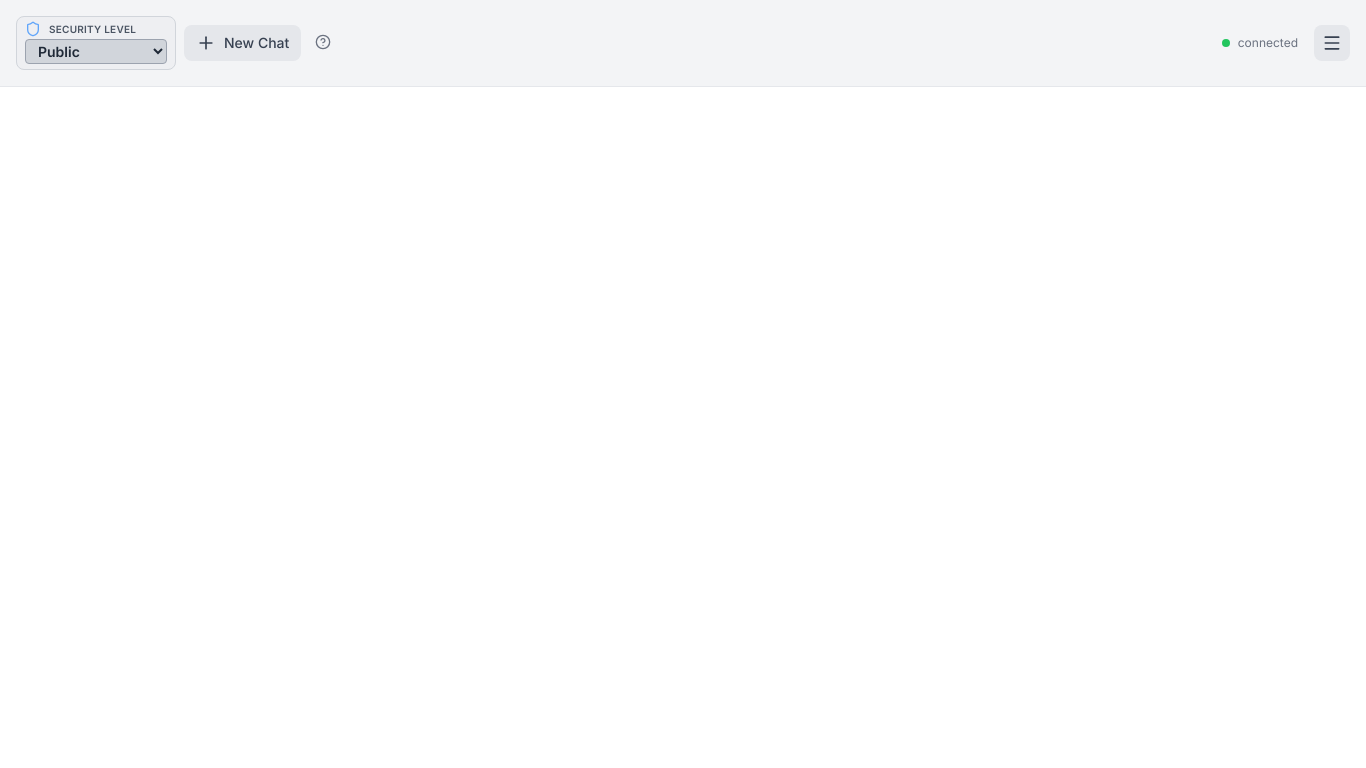
Test: header compliance selector lock (issue #1044) › stays unlocked after a first turn the server has not accepted
This screenshot has width=1366, height=768.
Click the button titled "Menu": (1332, 43) [1314,25,1350,61]
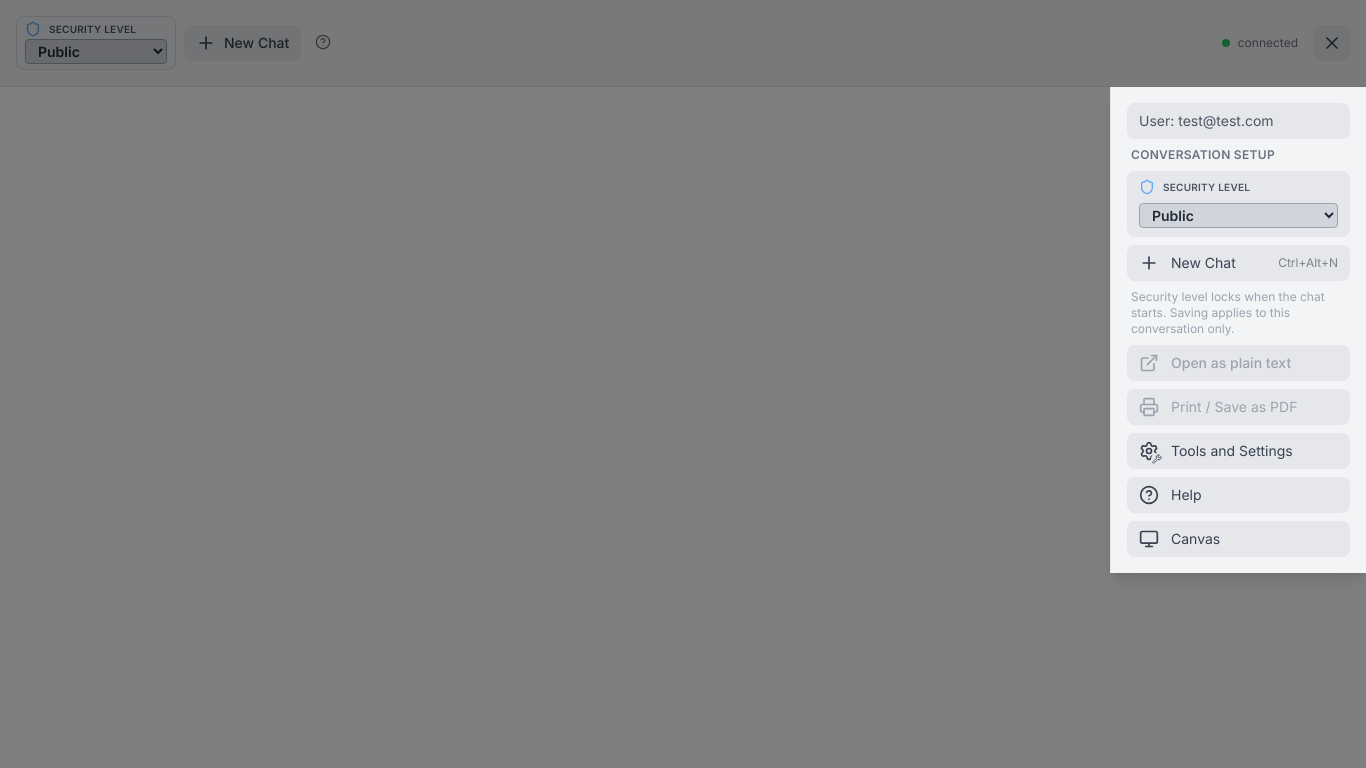
Result: the number of dropdowns labelled "Security level" is 2 at [25,39,167,64]; [1139,203,1338,228]
Result: the dropdown labelled "Security level" is enabled at [1139,203,1338,228]
Result: the dropdown labelled "Security level" shows "Public" at [1139,203,1338,228]
